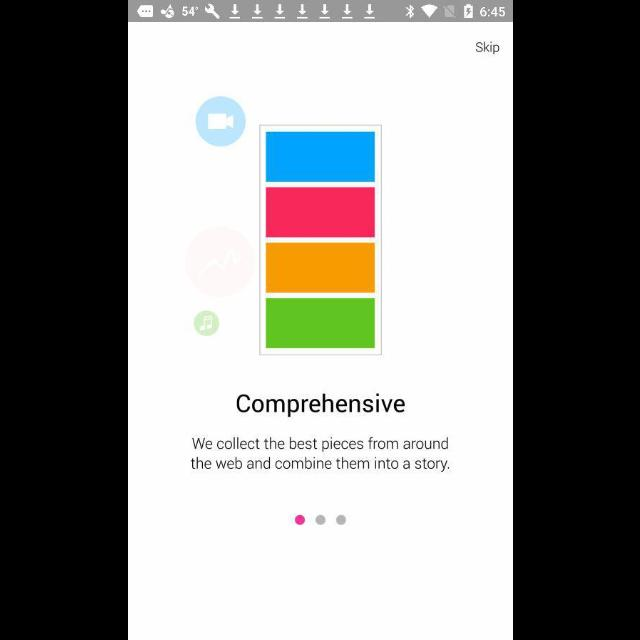image: (258, 124, 382, 356)
pageindicator: (294, 514, 346, 526)
text: (190, 436, 450, 472), (236, 394, 404, 418), (475, 42, 499, 56)
uppertaskbar: (128, 1, 512, 23)
